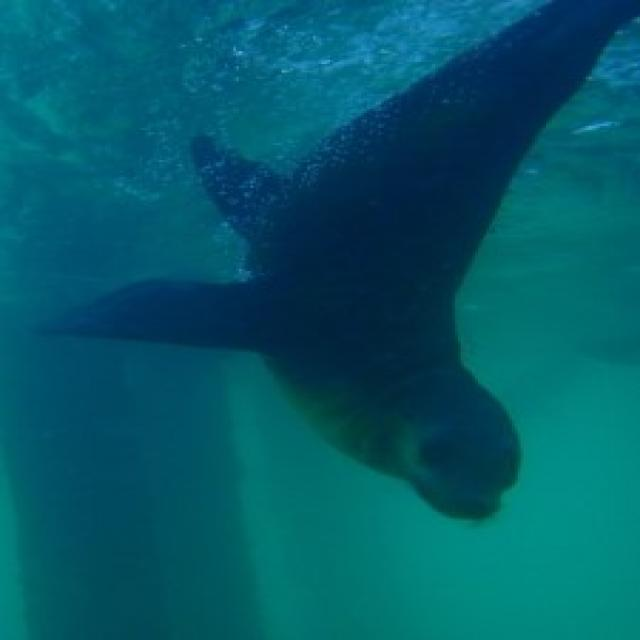Seal: (76, 2, 636, 546)
